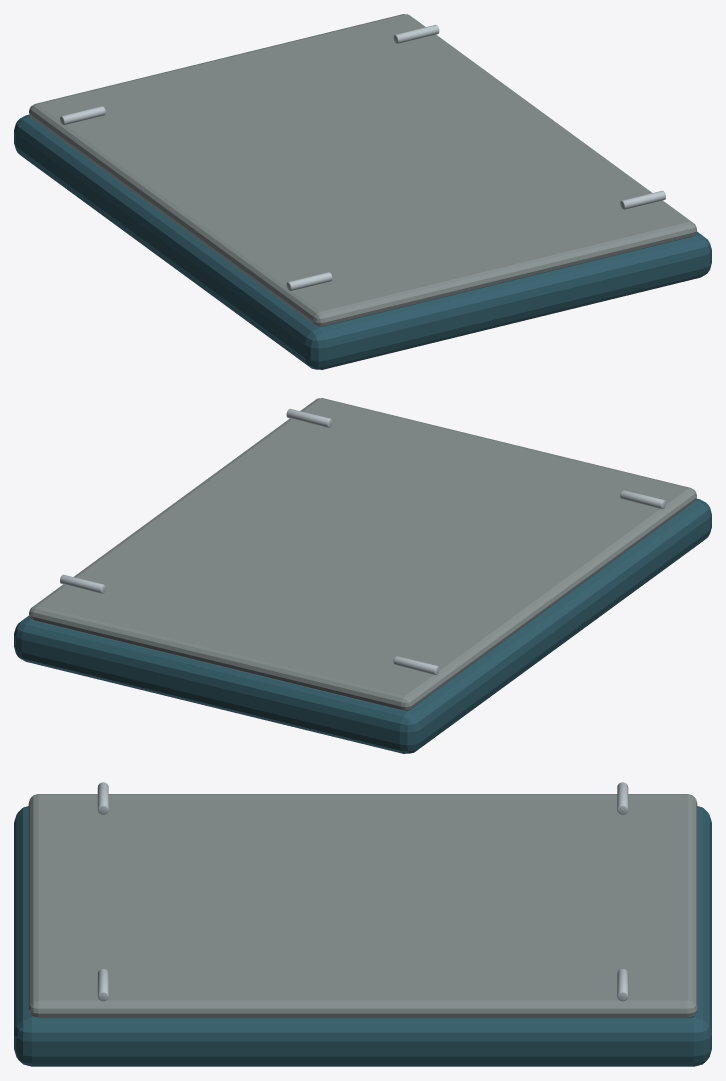
The model's file is deck_hatch.glb.
The picture shows the model from 3 angles, top to bottom: view 1: azimuth 30°, elevation 25°; view 2: azimuth 150°, elevation 25°; view 3: azimuth 270°, elevation 25°; orthographic projection. The views are drawn at different scales.
Parts seen in each view (by area): view 1: Hatch cover, Raised hatch coaming; view 2: Hatch cover, Raised hatch coaming; view 3: Hatch cover, Raised hatch coaming.
Part boxes in pixels (x1,y1,x2,y2): Hatch cover: [29, 14, 696, 326]; Raised hatch coaming: [14, 114, 711, 369]; Hatch cover: [29, 398, 696, 710]; Raised hatch coaming: [14, 498, 711, 753]; Hatch cover: [28, 794, 697, 1018]; Raised hatch coaming: [14, 806, 711, 1066].
Bounding box in the file's own units: 1.65 × 0.247 × 2.15.
